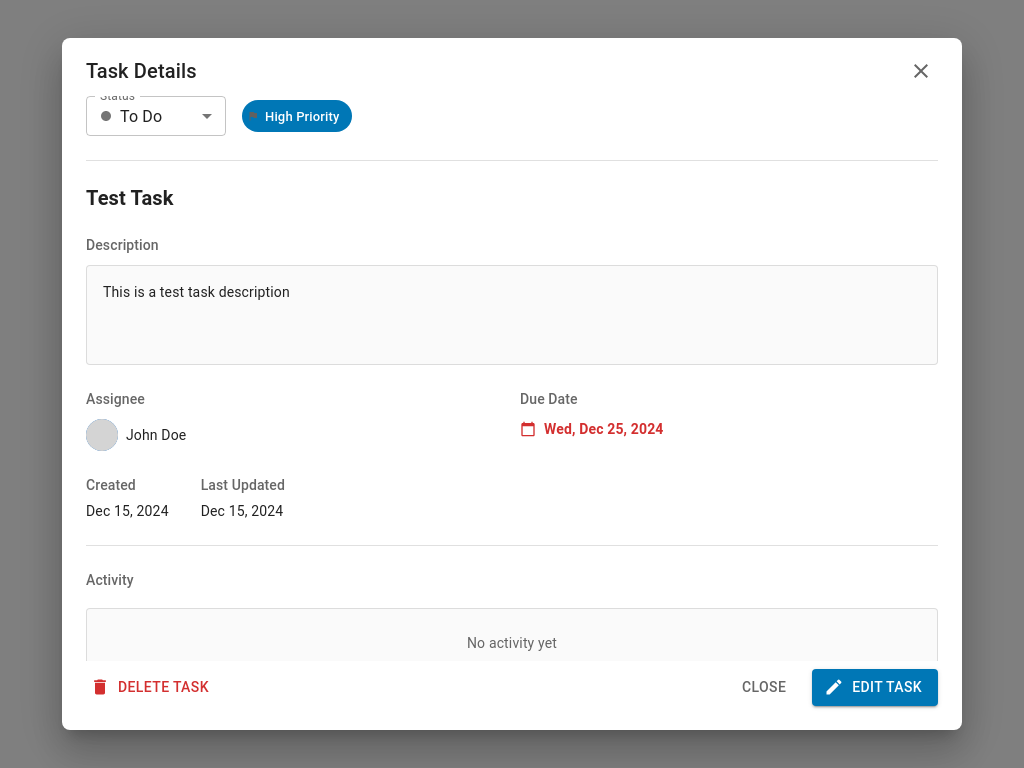
Test: TaskDetailModal › Edit Mode › enters edit mode when edit button is clicked
What coordinates should you click on to do the following:
click the button "Edit Task"
I would click on:
 (875, 687)
Its box is [812,669,938,706].
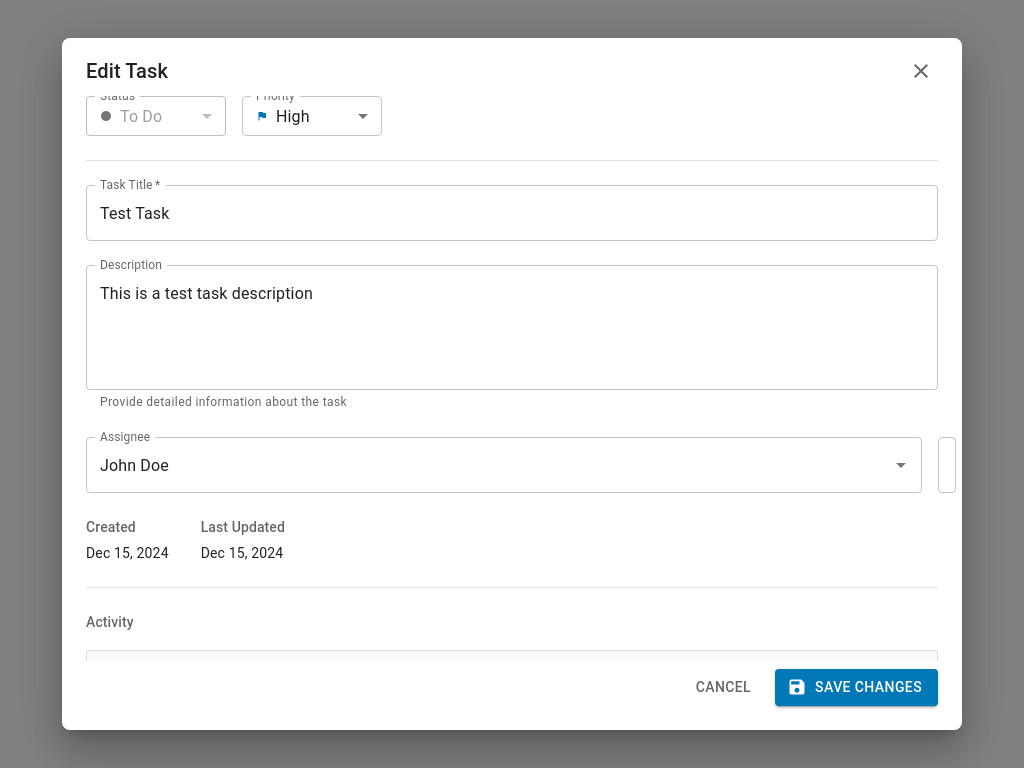
Check: the heading "Edit Task" is shown, box [86,55,168,87]
Check: the field showing "Test Task" is shown, box [86,185,938,241]
Check: the text box showing "This is a test task description" is shown, box [100,282,924,374]
